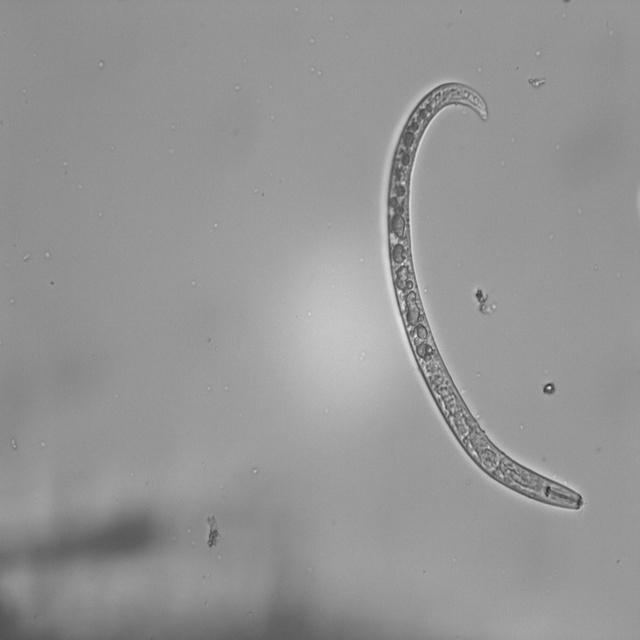Helicotylenchus: (377, 79, 592, 516)
